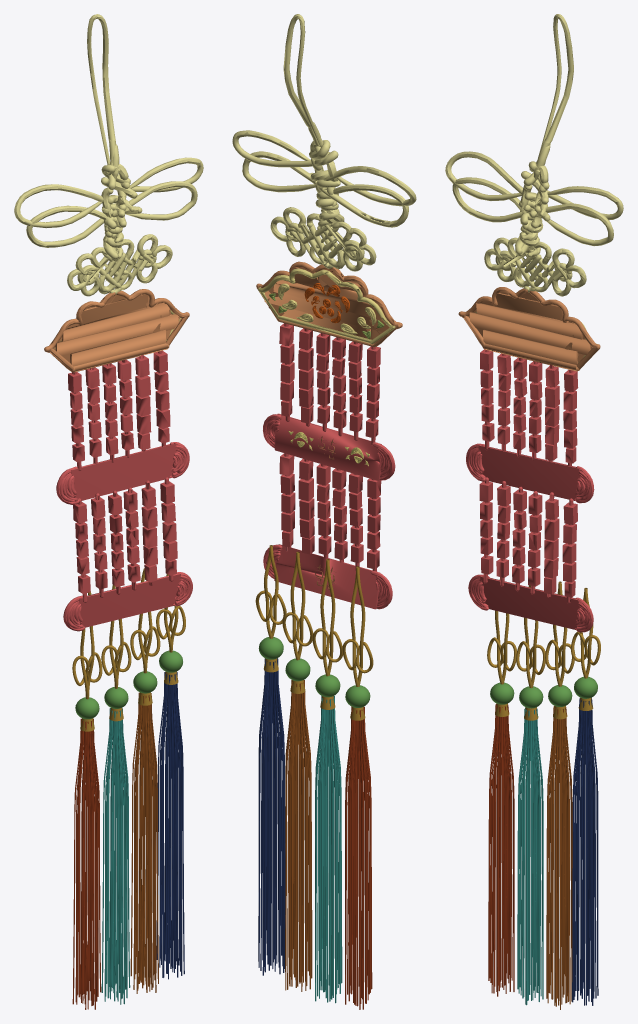
File: chinese-knot.glb
3 renders of one model, left to right at view 1: azimuth 30°, elevation 25°; view 2: azimuth 150°, elevation 25°; view 3: azimuth 330°, elevation 25°, orthographic. The views are drawn at different scales.
Parts seen in each view (by area): view 1: red-gold-knot-and-tassels; view 2: red-gold-knot-and-tassels; view 3: red-gold-knot-and-tassels.
Boxes of the visible parts, box(x1,y1,x2,y2) form: red-gold-knot-and-tassels: box(14, 14, 203, 1009); red-gold-knot-and-tassels: box(232, 14, 416, 1009); red-gold-knot-and-tassels: box(445, 14, 623, 1009).
Size of the model in its own units: 0.1974 by 1 by 0.072.
